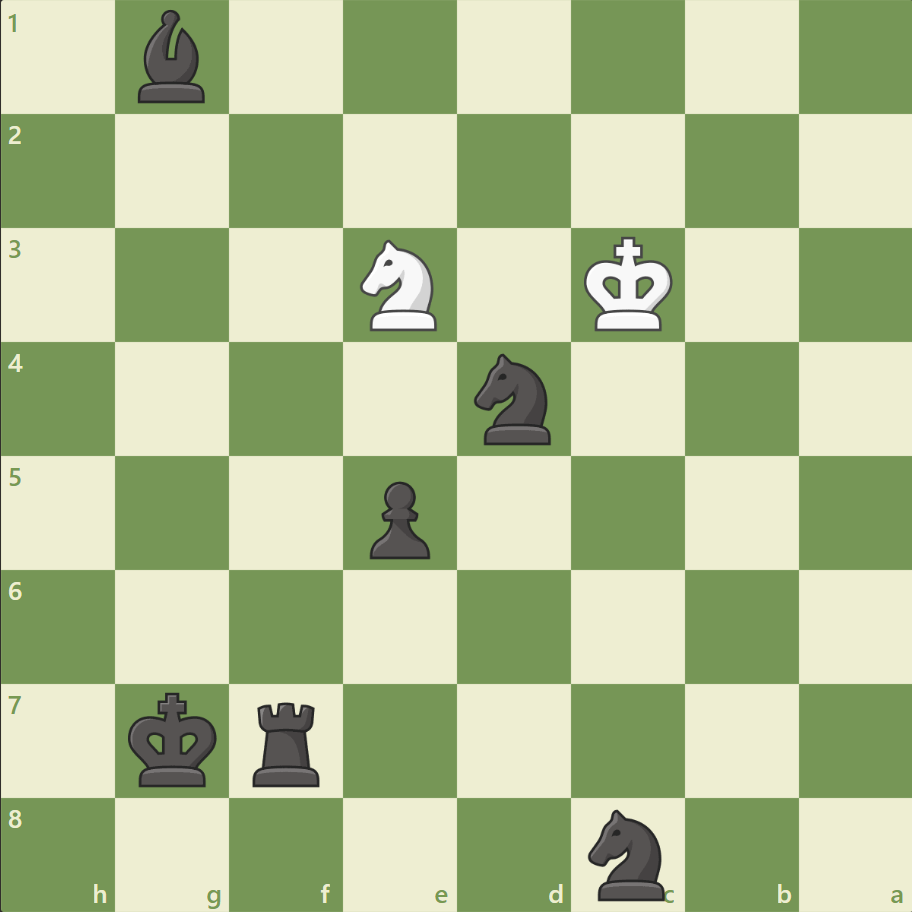K: (579, 231, 679, 339)
N: (351, 234, 449, 337)
b: (131, 6, 215, 109)
k: (124, 685, 224, 793)
n: (579, 802, 676, 904), (465, 348, 562, 450)
p: (361, 473, 435, 564)
r: (246, 693, 329, 790)
